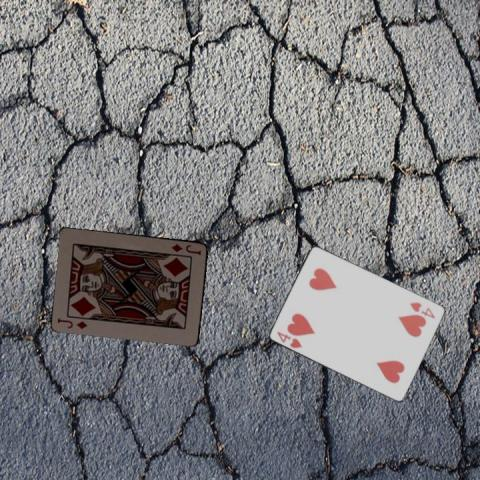4h: (406, 300, 436, 320), (274, 329, 303, 349)
Jd: (168, 241, 202, 257), (55, 315, 89, 330)
